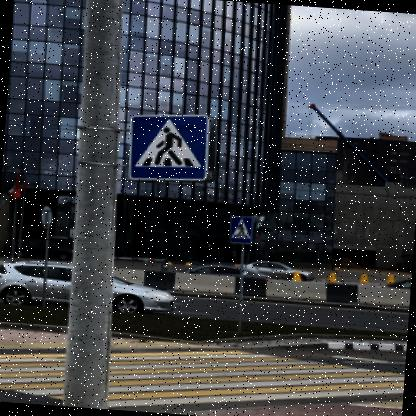crosswalk: (122, 108, 210, 184), (227, 214, 253, 244)
